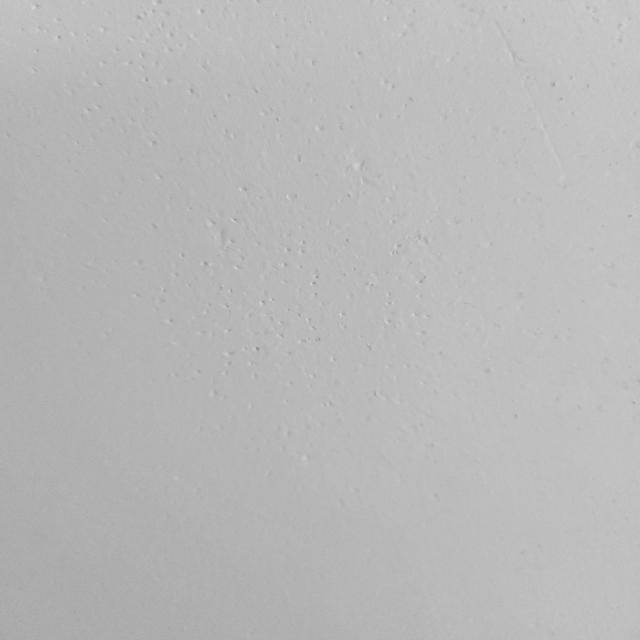rough and patchy surface: (36, 191, 483, 393), (25, 5, 484, 189), (236, 395, 414, 518)
